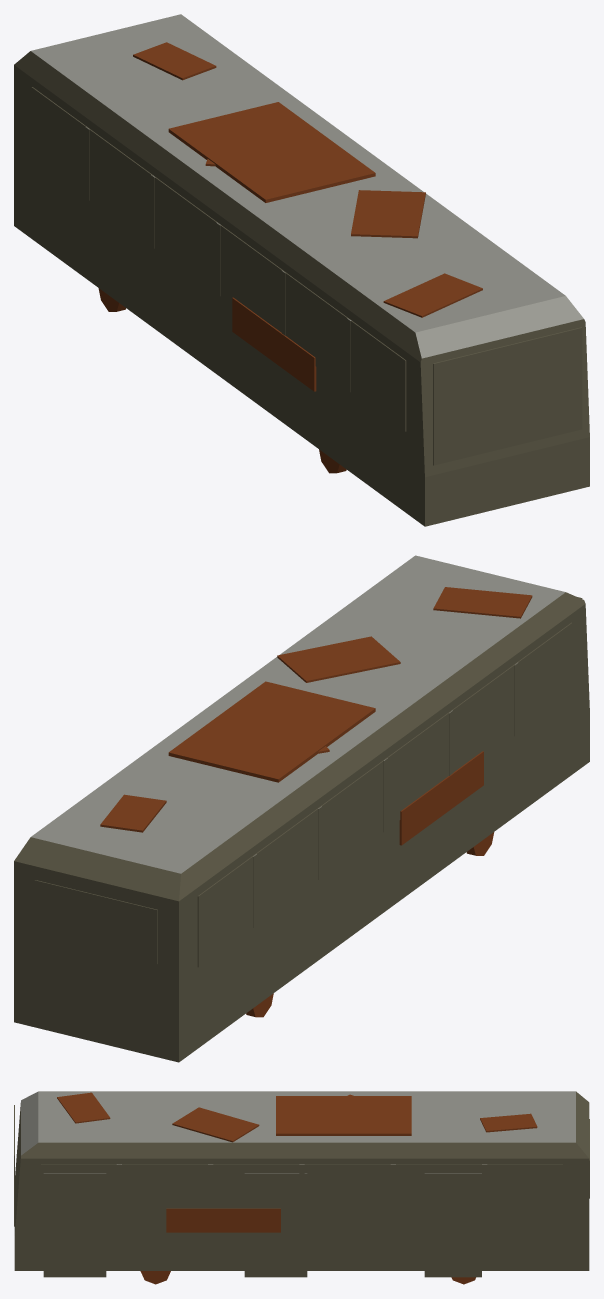
File: SM_Autobus_v4_Quemado_LOD0.fbx
The picture shows the model from 3 angles, top to bottom: view 1: azimuth 30°, elevation 25°; view 2: azimuth 150°, elevation 25°; view 3: azimuth 270°, elevation 25°; orthographic projection. The views are drawn at different scales.
Parts seen in each view (by area): view 1: SM_autobus_v4_LOD0; view 2: SM_autobus_v4_LOD0; view 3: SM_autobus_v4_LOD0.
Part boxes in pixels (x1,y1,x2,y2): SM_autobus_v4_LOD0: (14, 14, 589, 526); SM_autobus_v4_LOD0: (14, 555, 589, 1062); SM_autobus_v4_LOD0: (14, 1091, 589, 1284).
Bounding box in the file's own units: 2.62 × 3.03 × 11.03.
